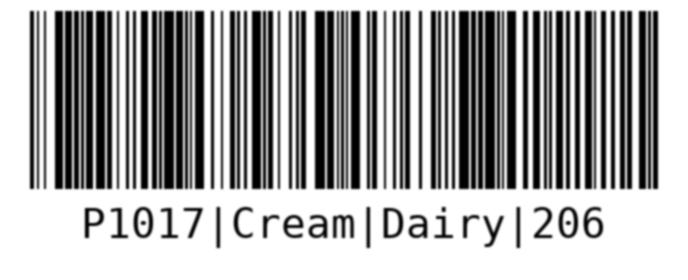milk: (27, 7, 663, 270)
